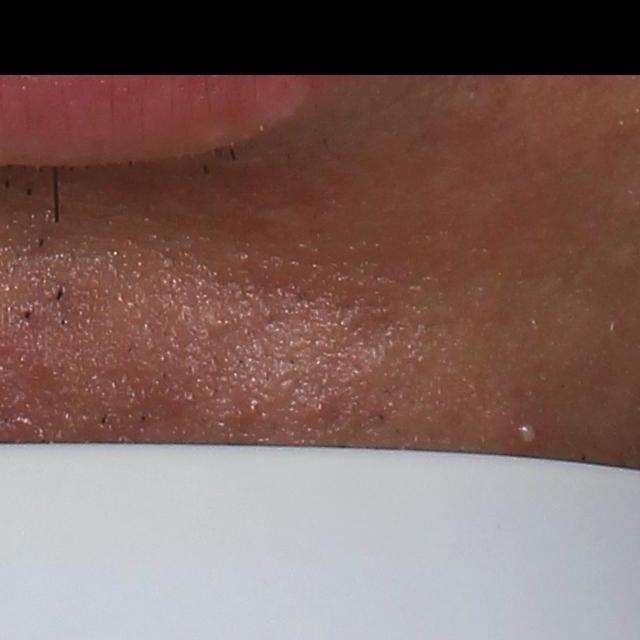pustule: (514, 422, 541, 444)
